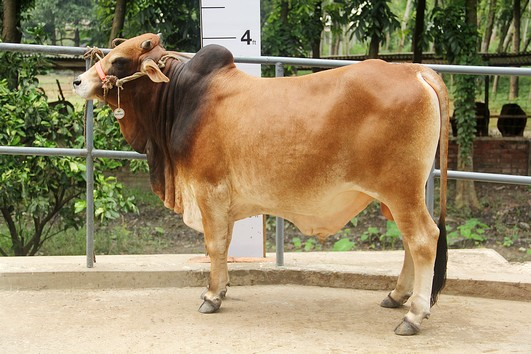cow: (65, 26, 457, 337)
